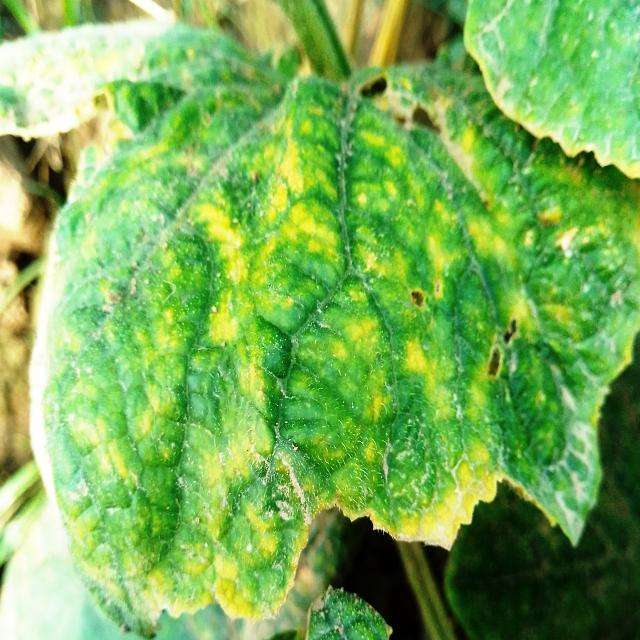Downy-Mildew: (31, 37, 638, 640)
